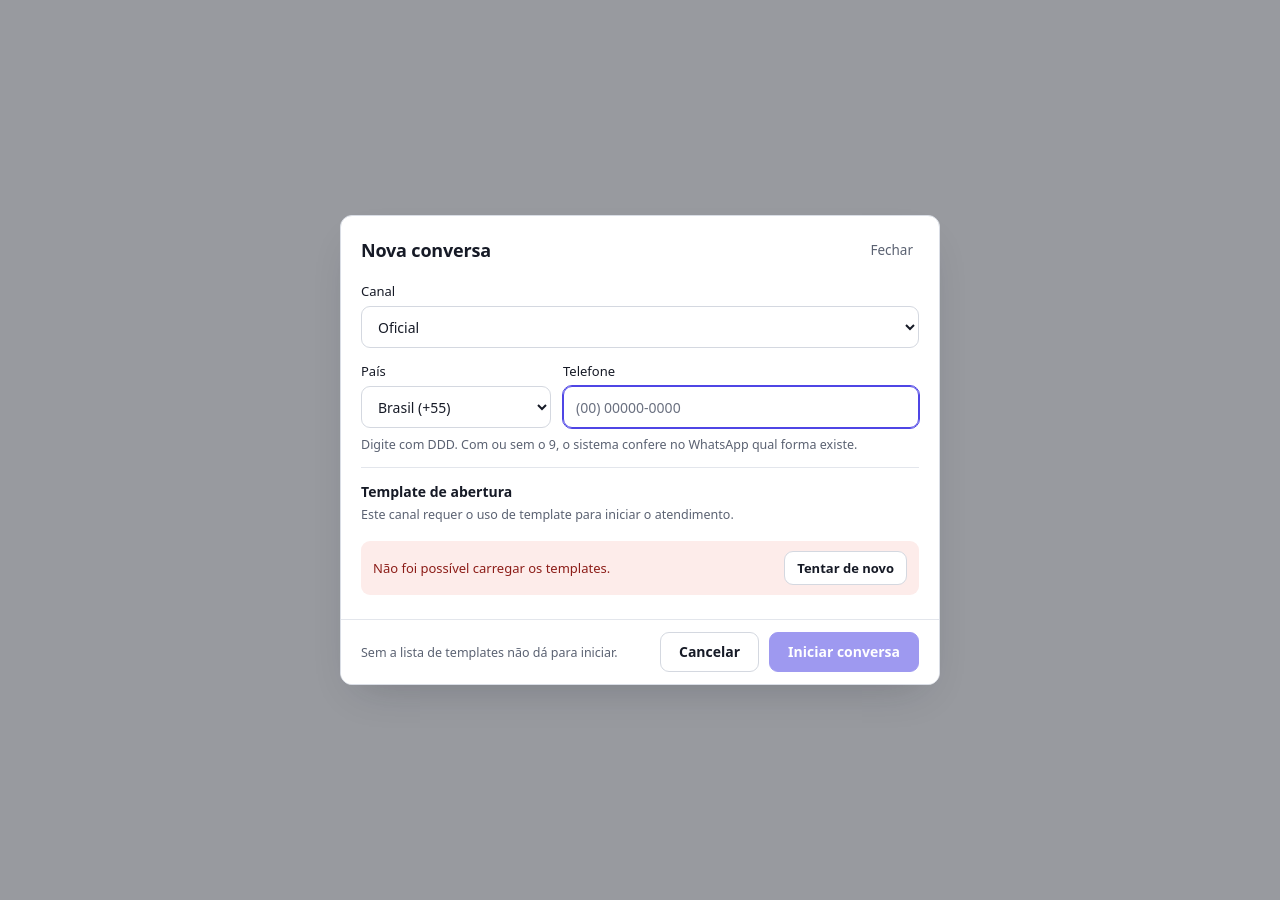
Test case: Nova conversa: conteúdo só com o tipo do canal, erro fixo › falha nos templates: diz, oferece "Tentar de novo" e não finge lista vazia
The image size is (1280, 900).
Expected: the text "Não foi possível carregar os templates." is shown, [373, 559, 610, 577]
Click the button "Tentar de novo": (846, 568) [784, 551, 907, 585]
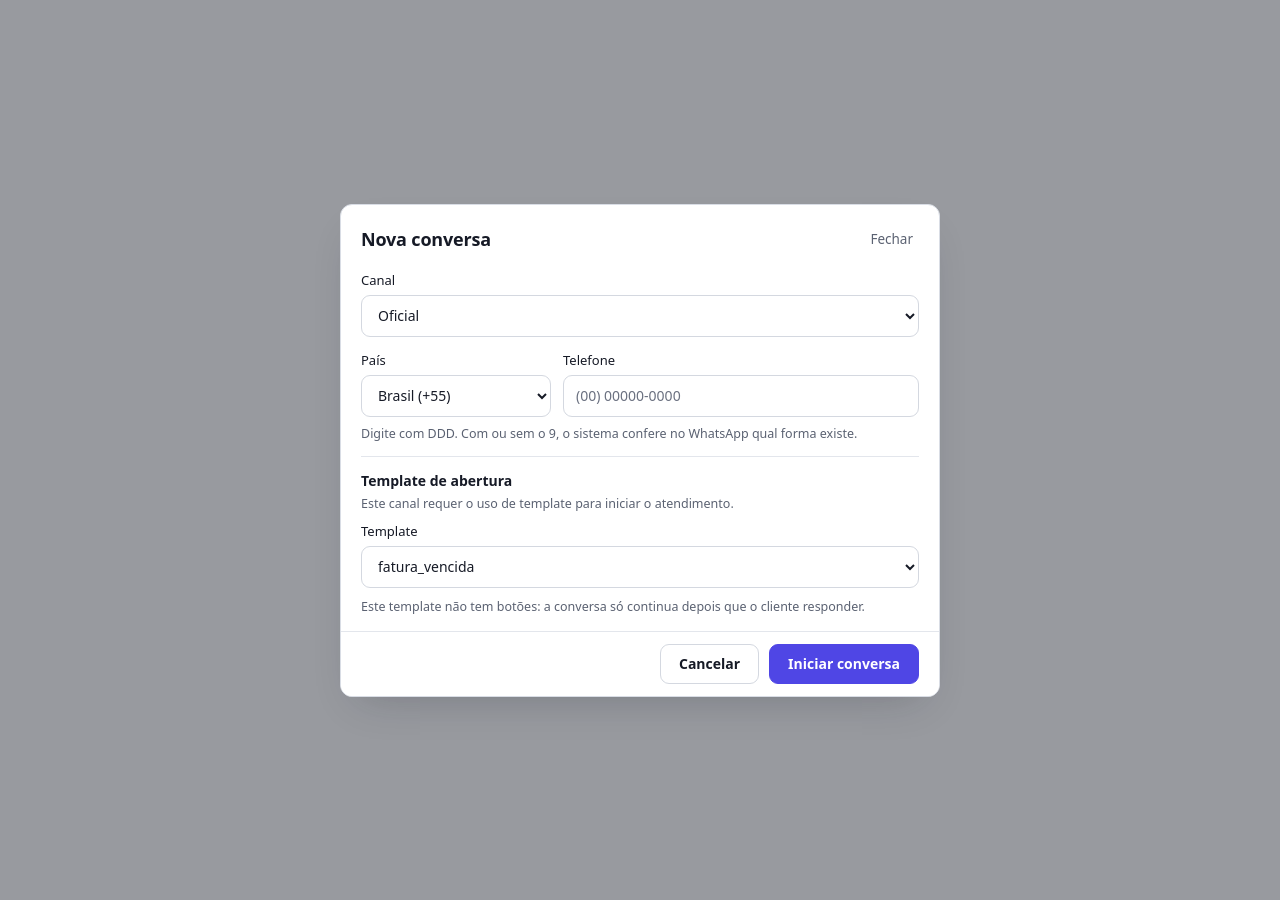
Expected: the dropdown labelled "Template" shows "fatura_vencida", [361, 546, 919, 588]
